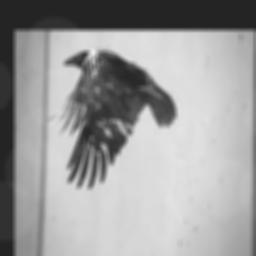Crow: (46, 49, 177, 189)
